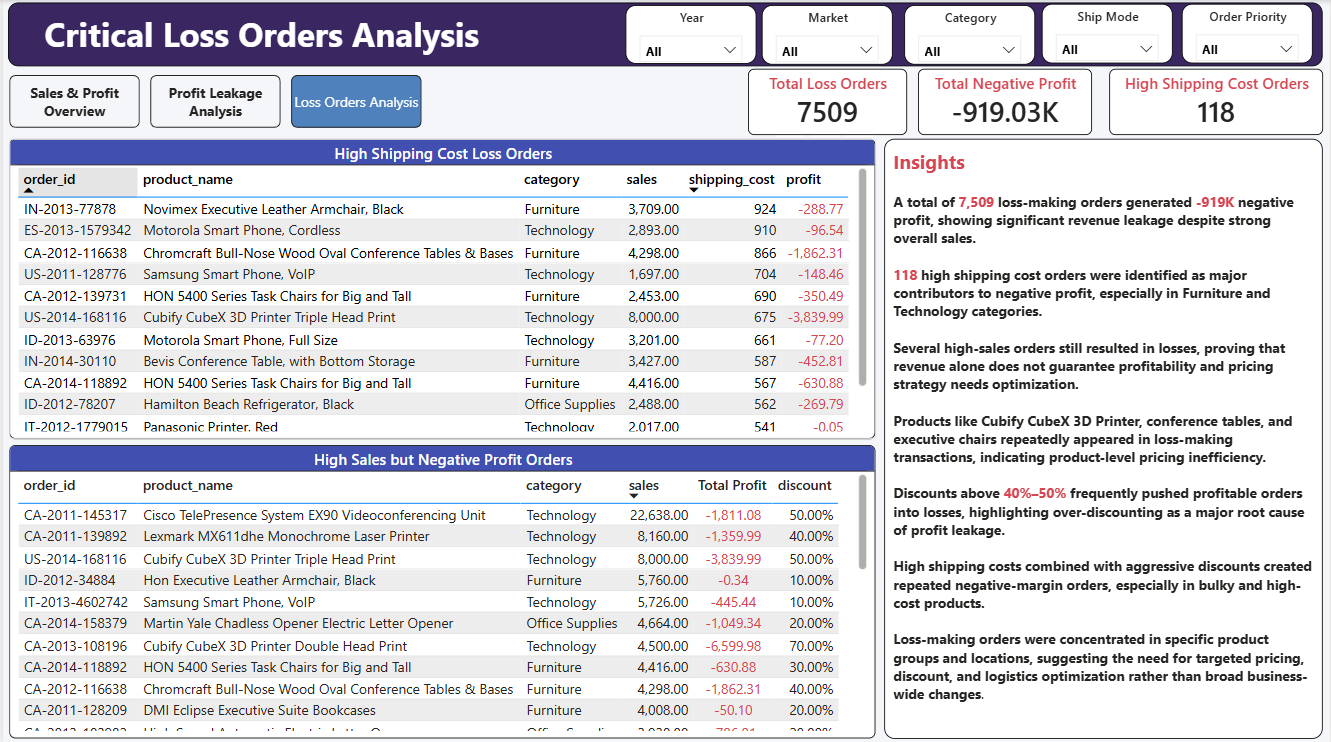

Layout of this report page (visuals, bound fields, positions):
{"tool":"powerbi","page":{"name":"Loss Orders Analysis","canvas":[1280,720],"ordinal":2},"visuals":[{"type":"textbox","box":[4.8,2.4,1269.2,61.5],"z":0},{"type":"slicer","title":"Category","fields":{"Values":["sales_data.category"]},"box":[869.8,4.8,126.7,57.9],"z":1000},{"type":"slicer","title":"Ship Mode","fields":{"Values":["sales_data.ship_mode"]},"box":[1002.6,3.6,126.7,57.9],"z":2000},{"type":"slicer","title":"Order Priority","fields":{"Values":["sales_data.order_priority"]},"box":[1137.7,3.6,126.7,57.9],"z":3000},{"type":"slicer","title":"Market","fields":{"Values":["sales_data.market"]},"box":[732.3,4.8,126.7,57.9],"z":4000},{"type":"tableEx","title":"High Shipping Cost Loss Orders","fields":{"Values":["sales_data.order_id","sales_data.product_name","sales_data.category","sales_data.sales","sales_data.shipping_cost","sales_data.profit"]},"box":[6,133.9,836.1,289.5],"z":5000},{"type":"tableEx","title":"High Sales but Negative Profit Orders","fields":{"Values":["sales_data.order_id","sales_data.product_name","sales_data.category","sales_data.sales","sales_data.Total Profit","sales_data.discount"]},"box":[6,429.5,836.1,283.5],"z":6000},{"type":"pageNavigator","box":[6,72.4,399.3,51.9],"z":7000},{"type":"card","title":"High Shipping Cost Orders","fields":{"Values":["sales_data.High Shipping Cost Orders"]},"box":[1067.7,66.4,206.3,63.9],"z":10000},{"type":"card","title":"Total Negative Profit","fields":{"Values":["sales_data.Total Negative Profit"]},"box":[883.1,66.4,167.7,63.9],"z":11000},{"type":"card","title":"Total Loss Orders","fields":{"Values":["sales_data.Total Loss Orders"]},"box":[719,66.4,153.2,63.9],"z":12000},{"type":"textbox","box":[850.5,133.9,423.5,579.1],"z":12001},{"type":"slicer","title":"Year","fields":{"Values":["sales_data.Year"]},"box":[600.8,4.8,126.7,56.7],"z":12002}]}

Visuals, with their boxes in screenshot pixels (x1, y1, x2, y2), scaled from the page's 1280x720 canvas onto the 1331x742 screenshot:
textbox: locate(5, 2, 1325, 66)
"Category" slicer: locate(904, 5, 1036, 65)
"Ship Mode" slicer: locate(1043, 4, 1174, 63)
"Order Priority" slicer: locate(1183, 4, 1315, 63)
"Market" slicer: locate(761, 5, 893, 65)
"High Shipping Cost Loss Orders" tableEx: locate(6, 138, 876, 436)
"High Sales but Negative Profit Orders" tableEx: locate(6, 443, 876, 735)
pageNavigator: locate(6, 75, 421, 128)
"High Shipping Cost Orders" card: locate(1110, 68, 1325, 134)
"Total Negative Profit" card: locate(918, 68, 1093, 134)
"Total Loss Orders" card: locate(748, 68, 907, 134)
textbox: locate(884, 138, 1325, 735)
"Year" slicer: locate(625, 5, 756, 63)
